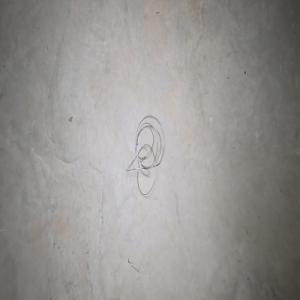Wire: (125, 115, 163, 195)
